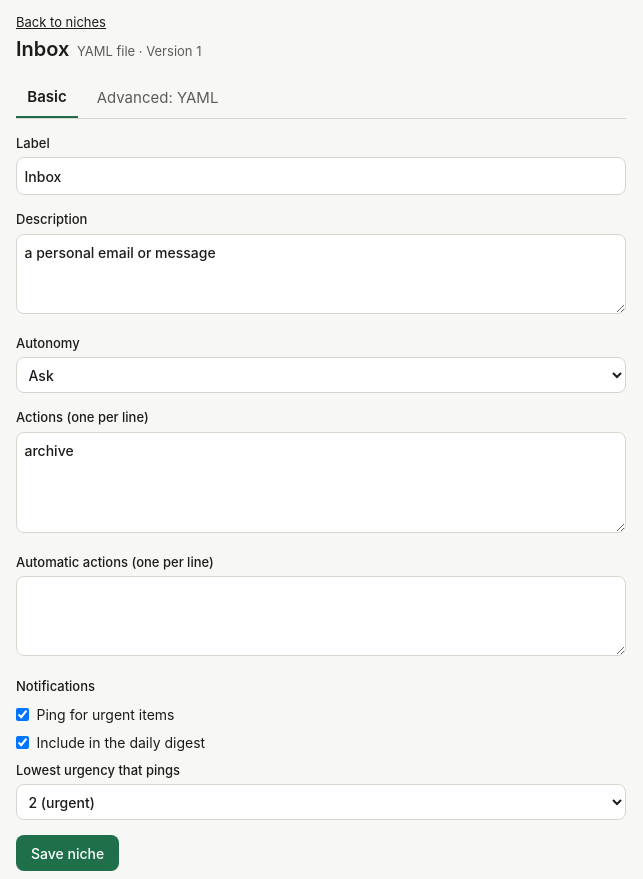
NicheEditor › shows a 422 message next to the field its pointer names
Expected: the field labelled "Label" is shown, [16,157,626,195]
Click the button "Save niche". click: (68, 853)
box: [16,835,119,871]
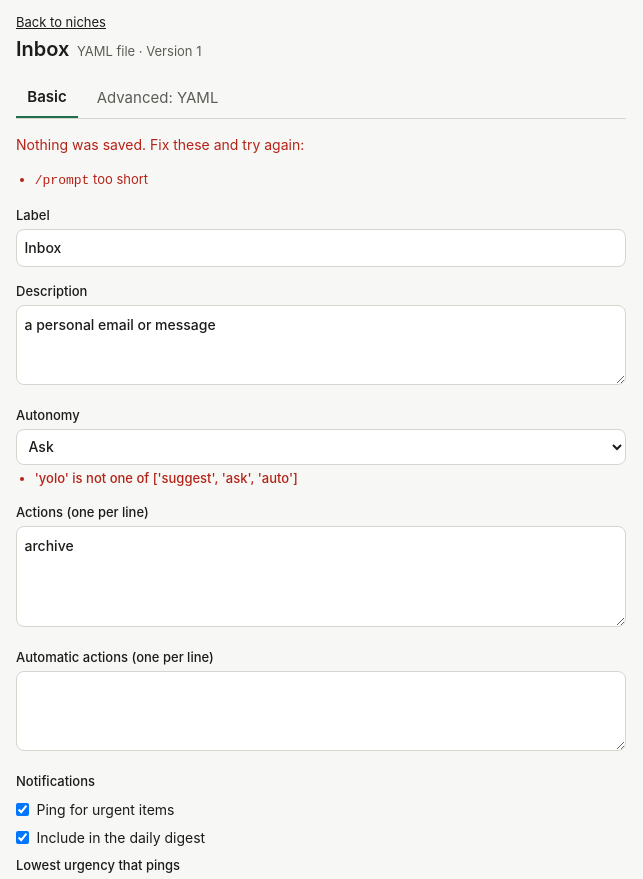
Expected: the text "'yolo' is not one of ['suggest', 'ask', 'auto']" shows "Autonomy", [16,406,80,422]
Now the list item "too short" is shown, box [93,171,148,187]
Now the text "/prompt" is shown, box [35,173,89,188]
